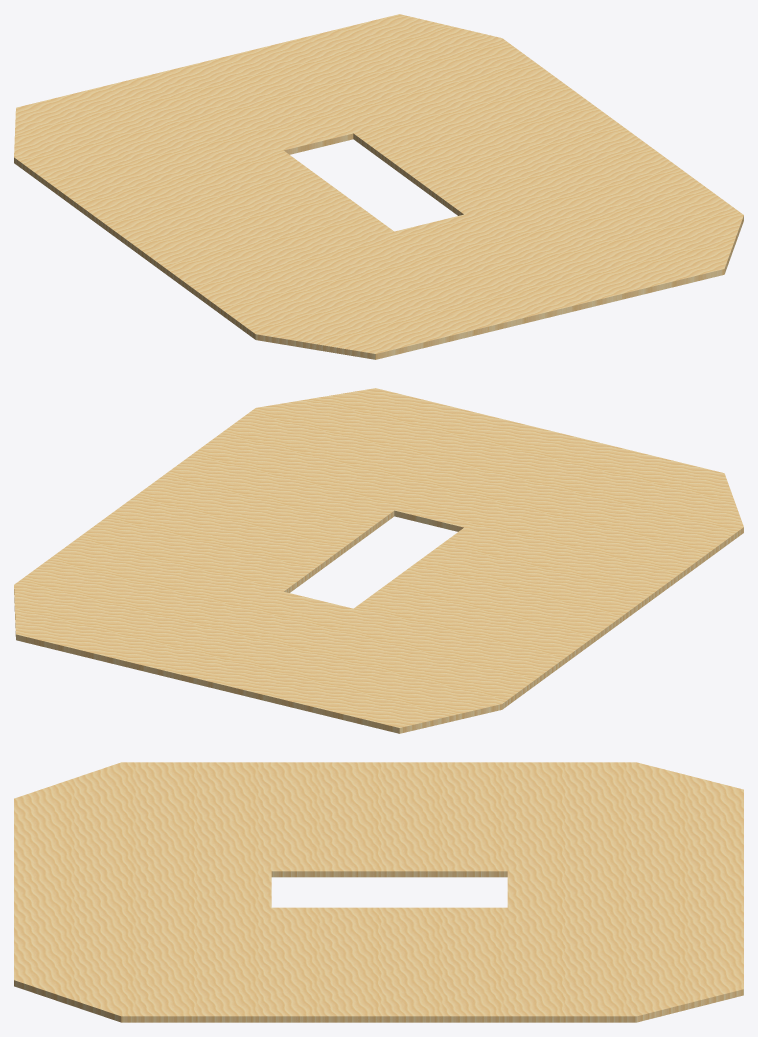
File: seabed-07-BHz5ovnv.glb
3 views of the same model, one above another, from view 1: azimuth 30°, elevation 25°; view 2: azimuth 150°, elevation 25°; view 3: azimuth 270°, elevation 25° (orthographic). The views are drawn at different scales.
Parts seen in each view (by area): view 1: SW_SandShelf; view 2: SW_SandShelf; view 3: SW_SandShelf.
Part boxes in pixels (bbox=[...]): SW_SandShelf: bbox=[14, 14, 743, 359]; SW_SandShelf: bbox=[14, 388, 743, 733]; SW_SandShelf: bbox=[14, 762, 743, 1022].
Size of what is drawn, in the model's own units: 28 by 0.32 by 34.
Materials: 1 (1 with a texture image).
